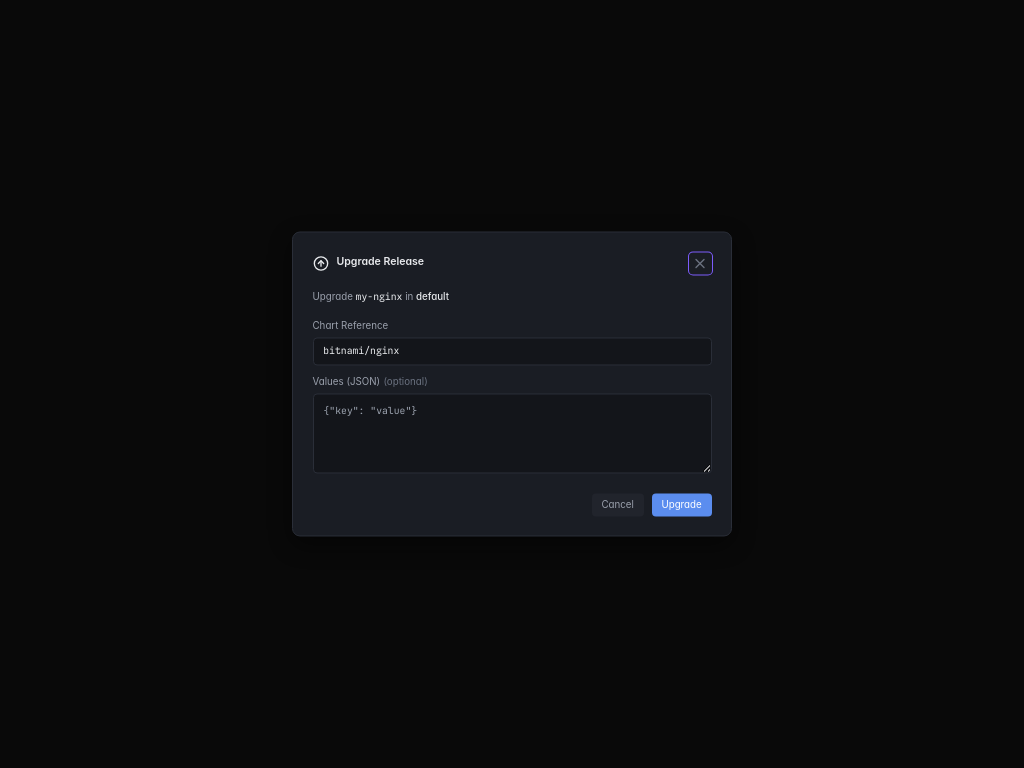
Test: HelmUpgradeDialog › shows Upgrading... while loading
The width and height of the screenshot is (1024, 768).
Click the button "Upgrade": [682, 505] box [652,493,712,516]
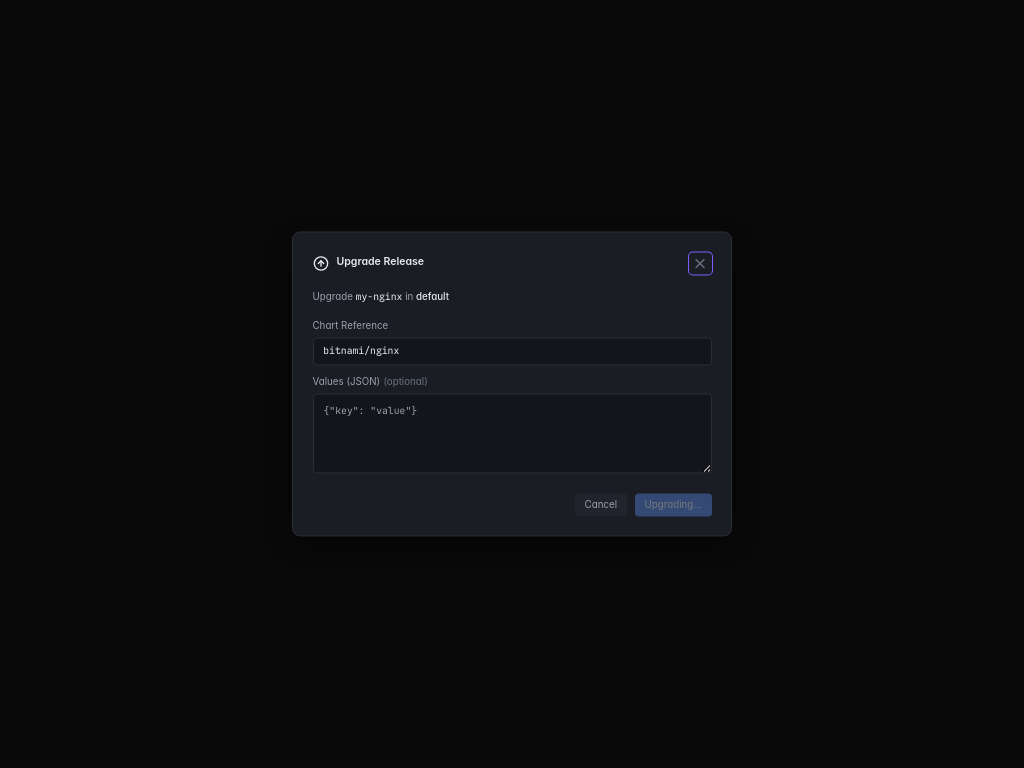
Now the button "Upgrading..." is shown, box [635,493,712,516]
